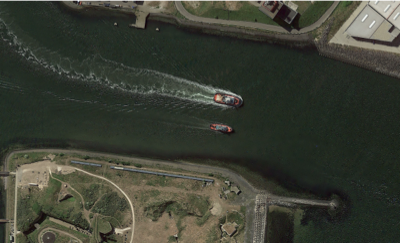boat: (212, 91, 243, 108), (209, 123, 234, 134)
